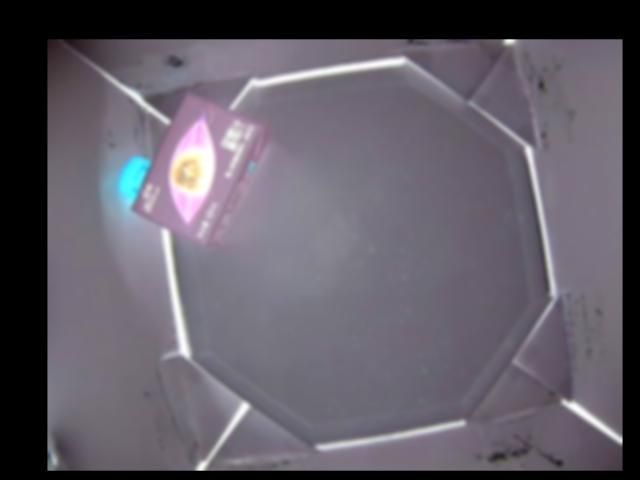Bottle: (114, 88, 272, 247)
